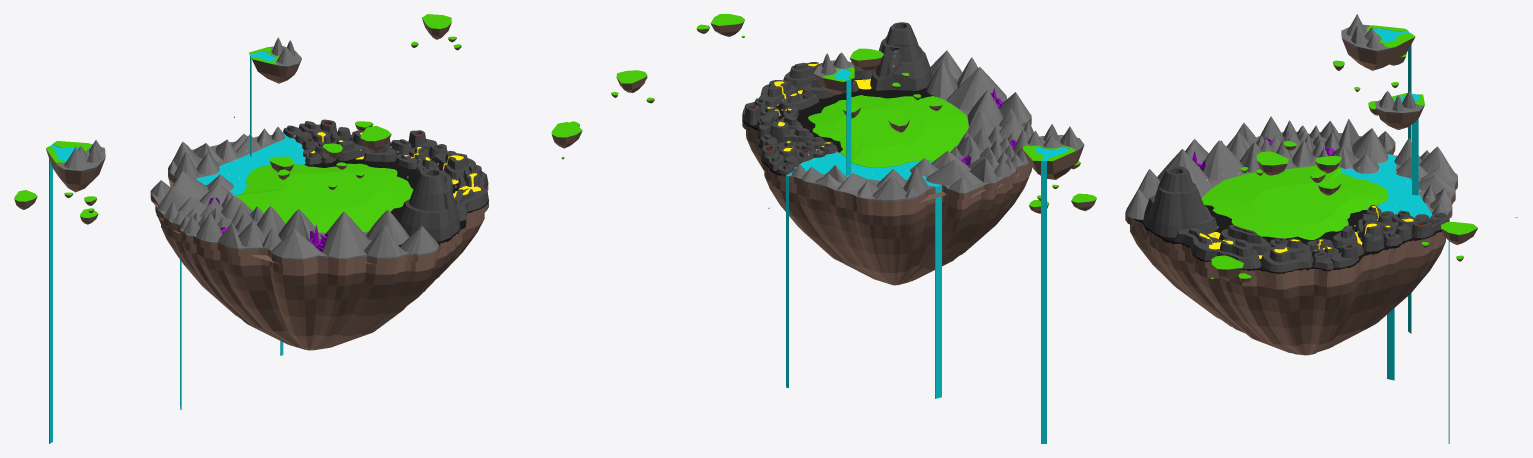
The model's file is DRFloatingIslandDraft6DragonEntranceFix.fbx.
3 renders of one model, left to right at view 1: azimuth 30°, elevation 25°; view 2: azimuth 150°, elevation 25°; view 3: azimuth 270°, elevation 25°, orthographic. The views are drawn at different scales.
Visible parts, largest first — view 1: IslandBase, PointyMountains, IslandTopMiddle, FlatTopMountains, IslandTopNew, Vulcano, IslandTopWater, Waterfall, SmallFloatingIsland.018, SmallFloatingIsland.021, Mountains; view 2: IslandBase, PointyMountains, IslandTopMiddle, FlatTopMountains, IslandTopNew, Vulcano, Waterfall, IslandTopWater, Waterfall.002, SmallFloatingIsland.018, Mountains, Waterfall.001 (+1 smaller); view 3: IslandBase, PointyMountains, IslandTopMiddle, FlatTopMountains, IslandTopNew, Vulcano, IslandTopWater, SmallFloatingIsland.018, Mountains, SmallFloatingIsland.021, Waterfall.002, Waterfall.003 (+4 smaller).
Boxes of the visible parts, bbox=[...] form: IslandBase: bbox=[155, 206, 484, 350]; PointyMountains: bbox=[151, 127, 438, 258]; IslandTopMiddle: bbox=[235, 160, 417, 232]; FlatTopMountains: bbox=[283, 119, 488, 221]; IslandTopNew: bbox=[150, 132, 488, 266]; Vulcano: bbox=[397, 167, 460, 241]; IslandTopWater: bbox=[196, 132, 305, 195]; Waterfall: bbox=[49, 144, 52, 443]; SmallFloatingIsland.018: bbox=[46, 149, 105, 192]; SmallFloatingIsland.021: bbox=[252, 59, 301, 83]; Mountains: bbox=[64, 140, 102, 168]; IslandBase: bbox=[746, 130, 1031, 285]; PointyMountains: bbox=[791, 50, 1033, 200]; IslandTopMiddle: bbox=[796, 90, 968, 167]; FlatTopMountains: bbox=[742, 62, 872, 175]; IslandTopNew: bbox=[742, 78, 1031, 207]; Vulcano: bbox=[870, 22, 932, 90]; Waterfall: bbox=[1041, 161, 1046, 443]; IslandTopWater: bbox=[786, 152, 940, 186]; Waterfall.002: bbox=[935, 185, 941, 398]; SmallFloatingIsland.018: bbox=[1022, 145, 1084, 179]; Mountains: bbox=[1027, 124, 1080, 147]; Waterfall.001: bbox=[786, 175, 788, 387]; IslandBase: bbox=[1130, 225, 1445, 355]; PointyMountains: bbox=[1125, 116, 1457, 219]; IslandTopMiddle: bbox=[1201, 165, 1388, 244]; FlatTopMountains: bbox=[1175, 205, 1449, 272]; IslandTopNew: bbox=[1125, 131, 1457, 279]; Vulcano: bbox=[1143, 166, 1217, 237]; IslandTopWater: bbox=[1341, 154, 1432, 217]; SmallFloatingIsland.018: bbox=[1341, 37, 1415, 70]; Mountains: bbox=[1346, 14, 1381, 48]; SmallFloatingIsland.021: bbox=[1376, 106, 1424, 129]; Waterfall.002: bbox=[1387, 154, 1394, 380]; Waterfall.003: bbox=[1412, 94, 1418, 195].
Size of the model in its own units: 691722 by 471439 by 475759.
